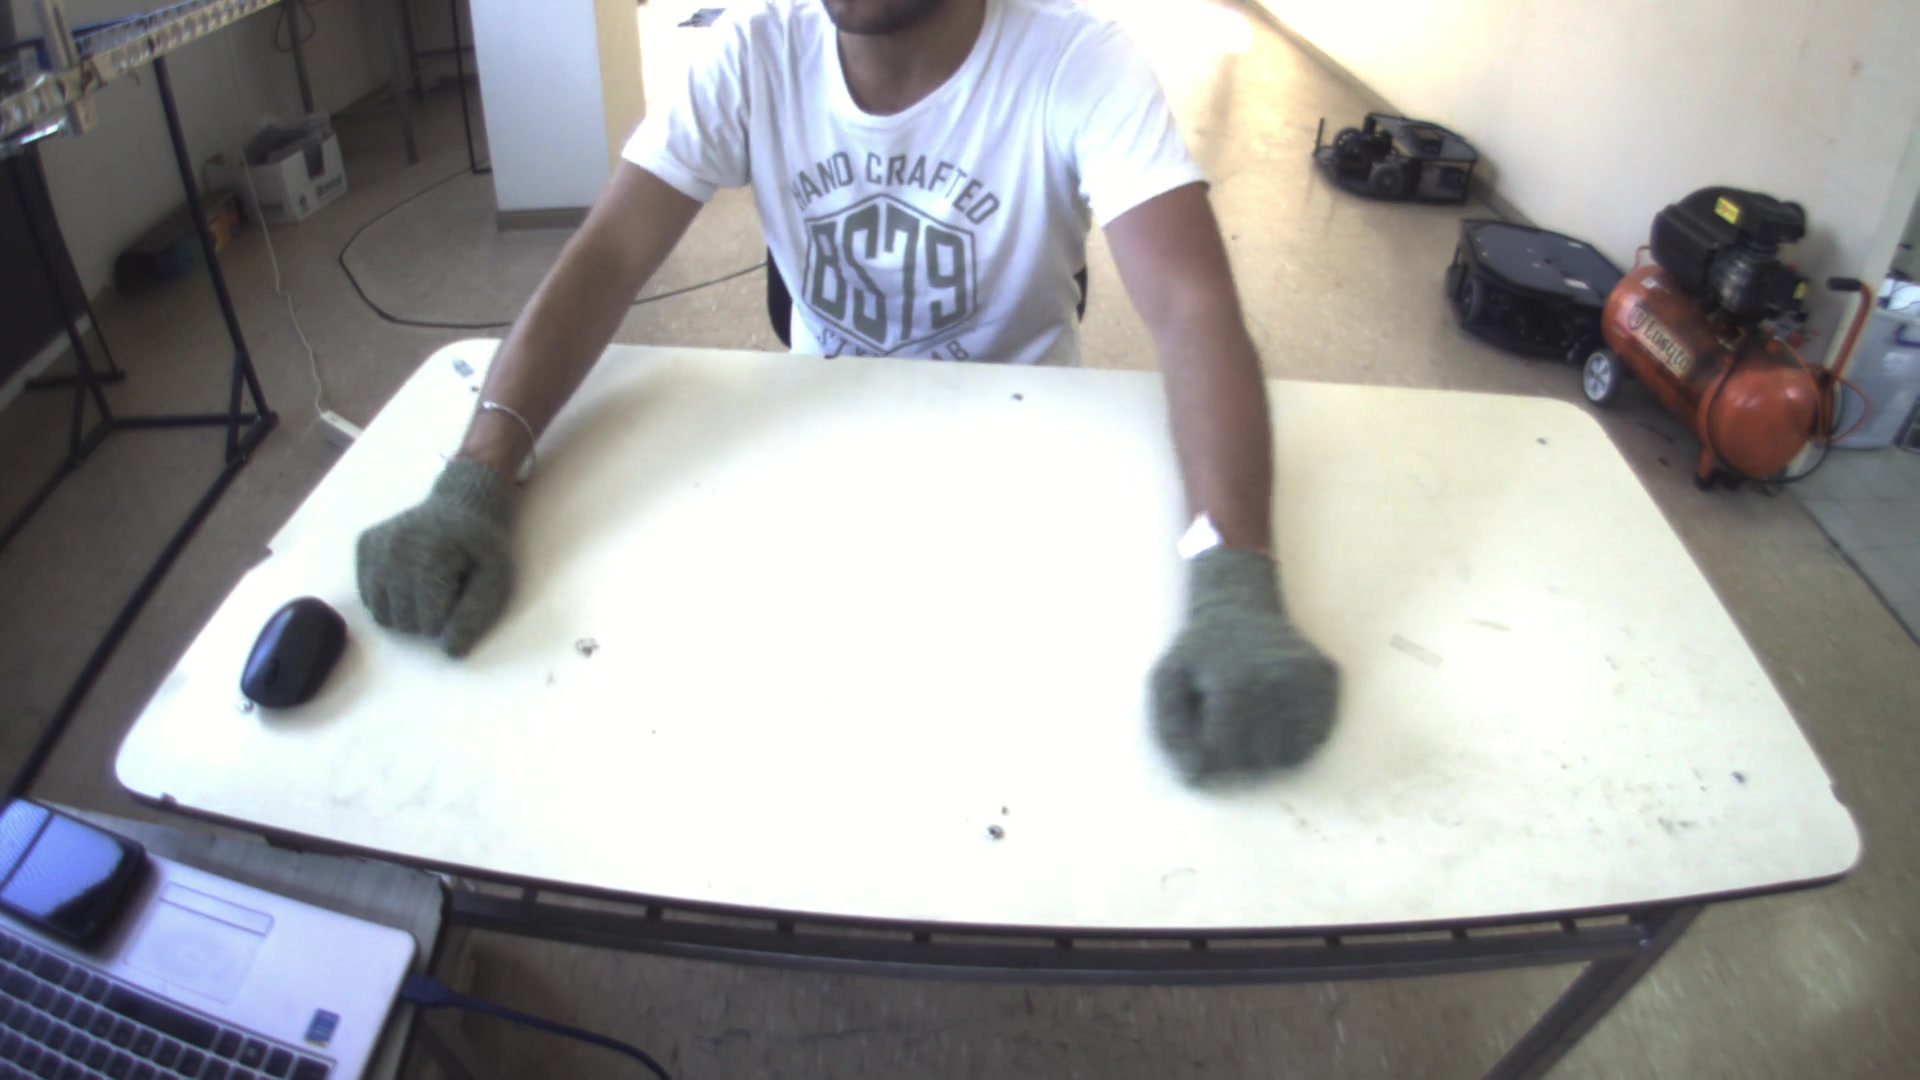hand: (1141, 541, 1354, 796), (347, 446, 529, 661)
